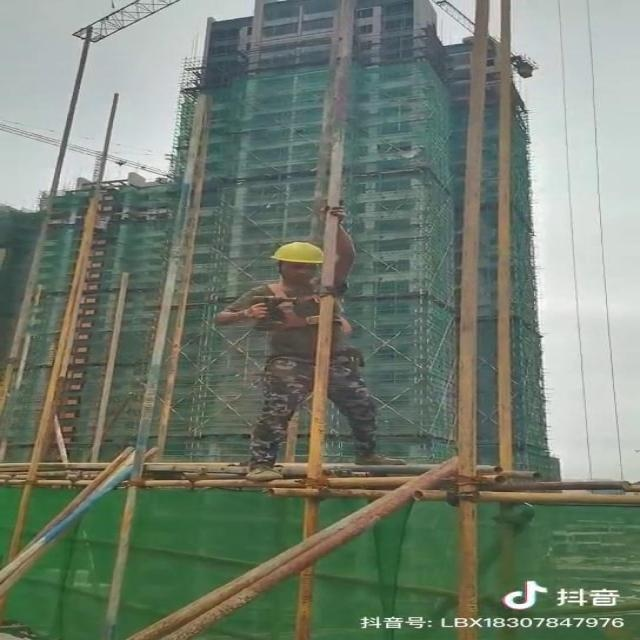Arnes_seguridad: (244, 278, 357, 351)
